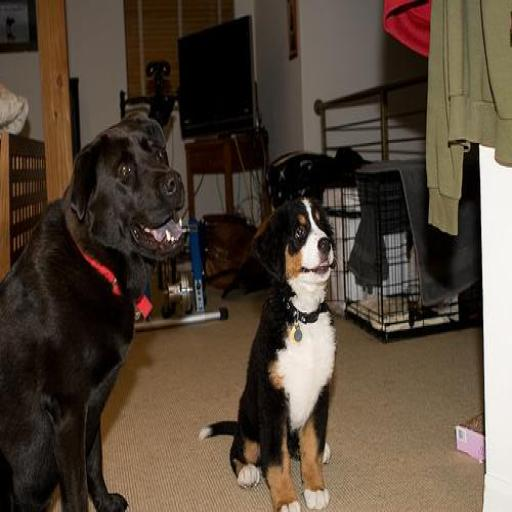dog_face: (79, 113, 186, 262), (260, 204, 342, 298)
